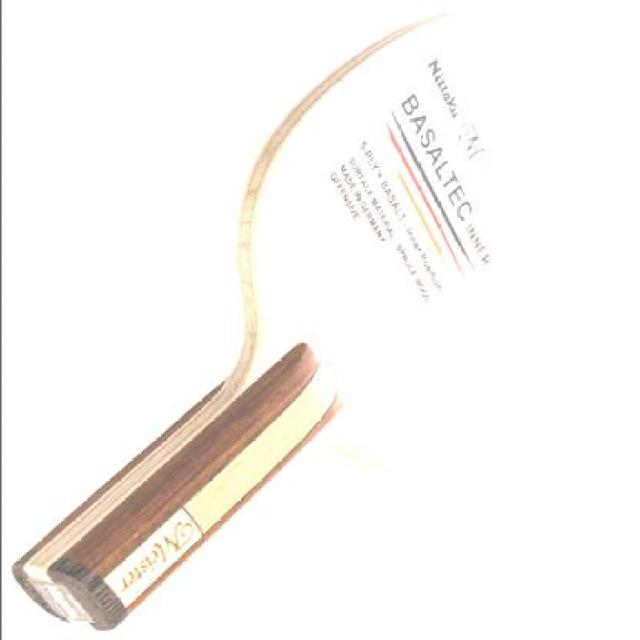table_tennis_racket: (237, 7, 634, 481)
